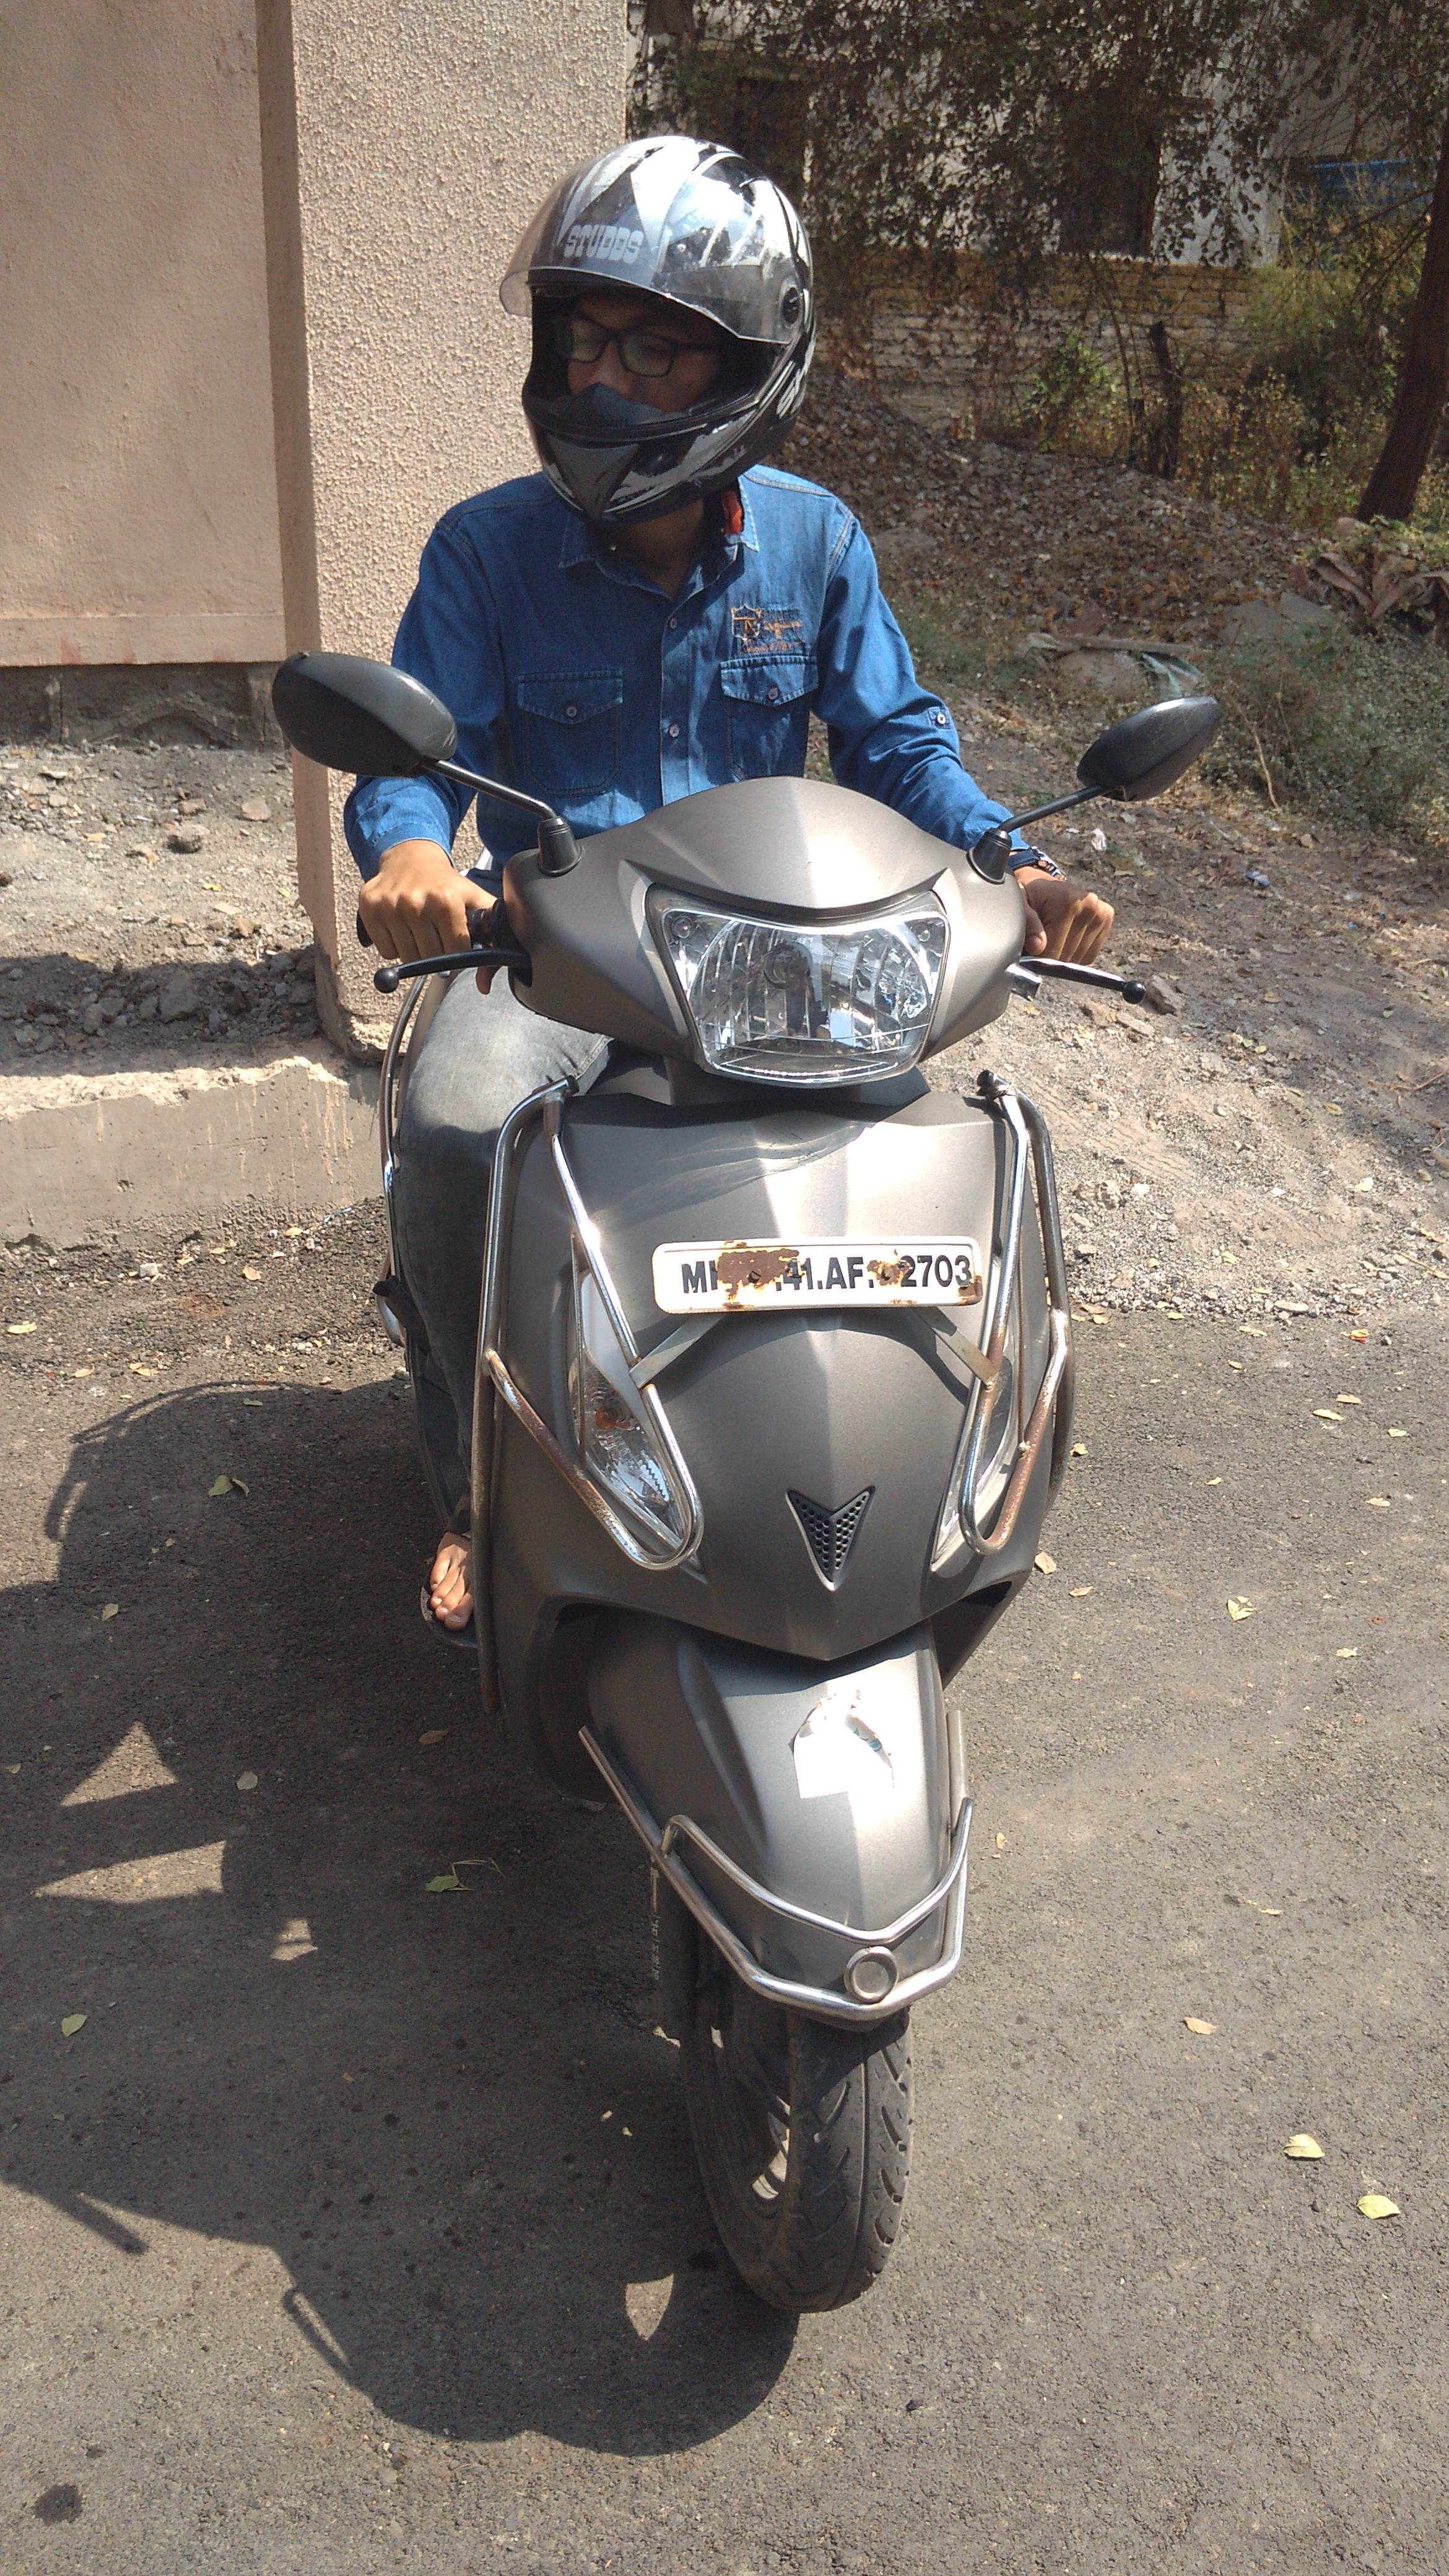helmet: (311, 108, 1129, 1205)
